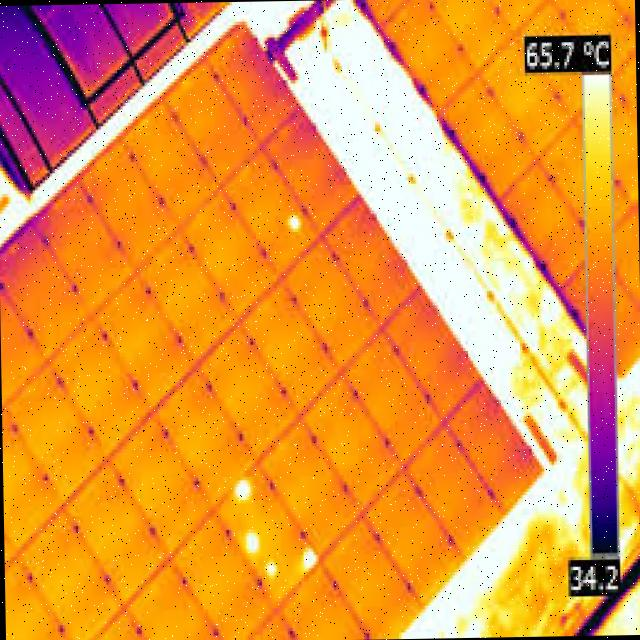Hotspot: (241, 522, 259, 560), (300, 541, 318, 574), (232, 479, 252, 506), (285, 208, 305, 235), (262, 562, 276, 575)
